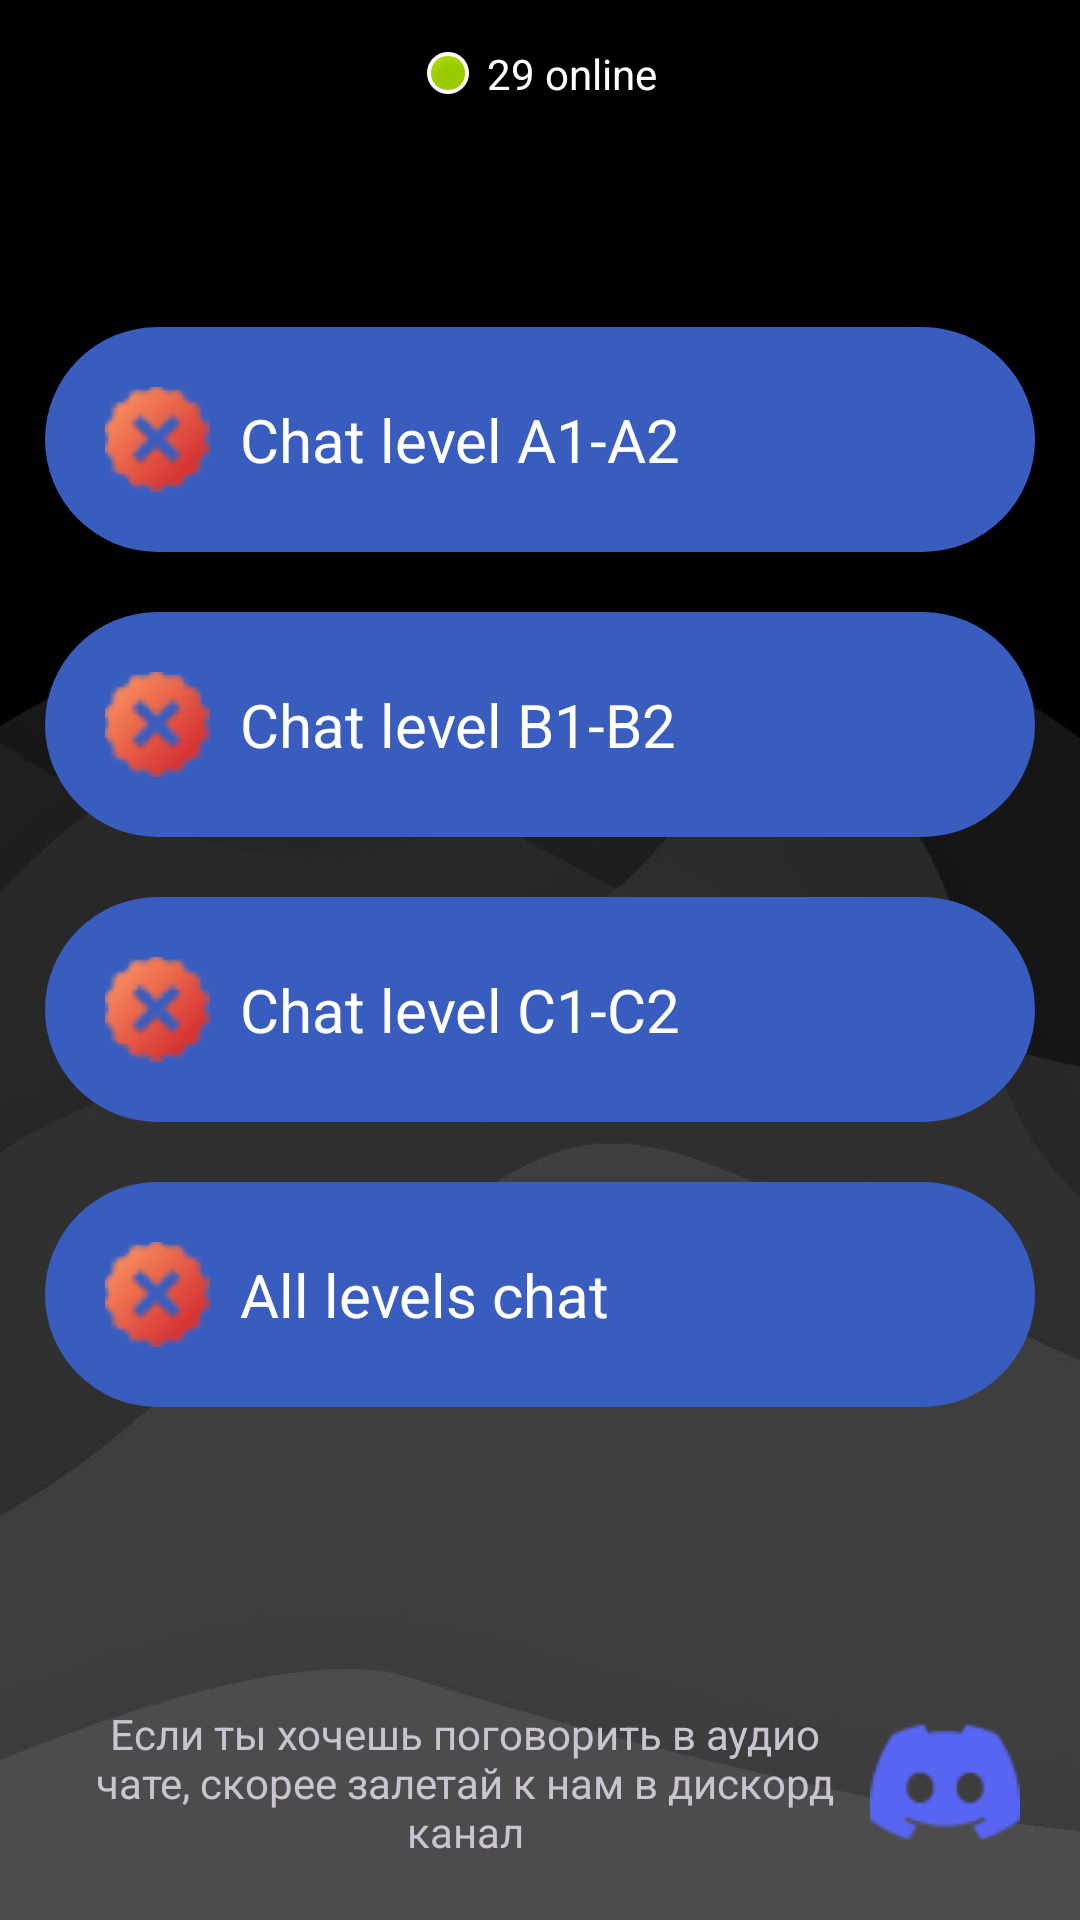

Icons on this 1080w x 1920h Android screen, each with the point to tap as (x=x, y=y):
bad: (x=157, y=439), (x=157, y=724), (x=157, y=1009), (x=157, y=1294)
